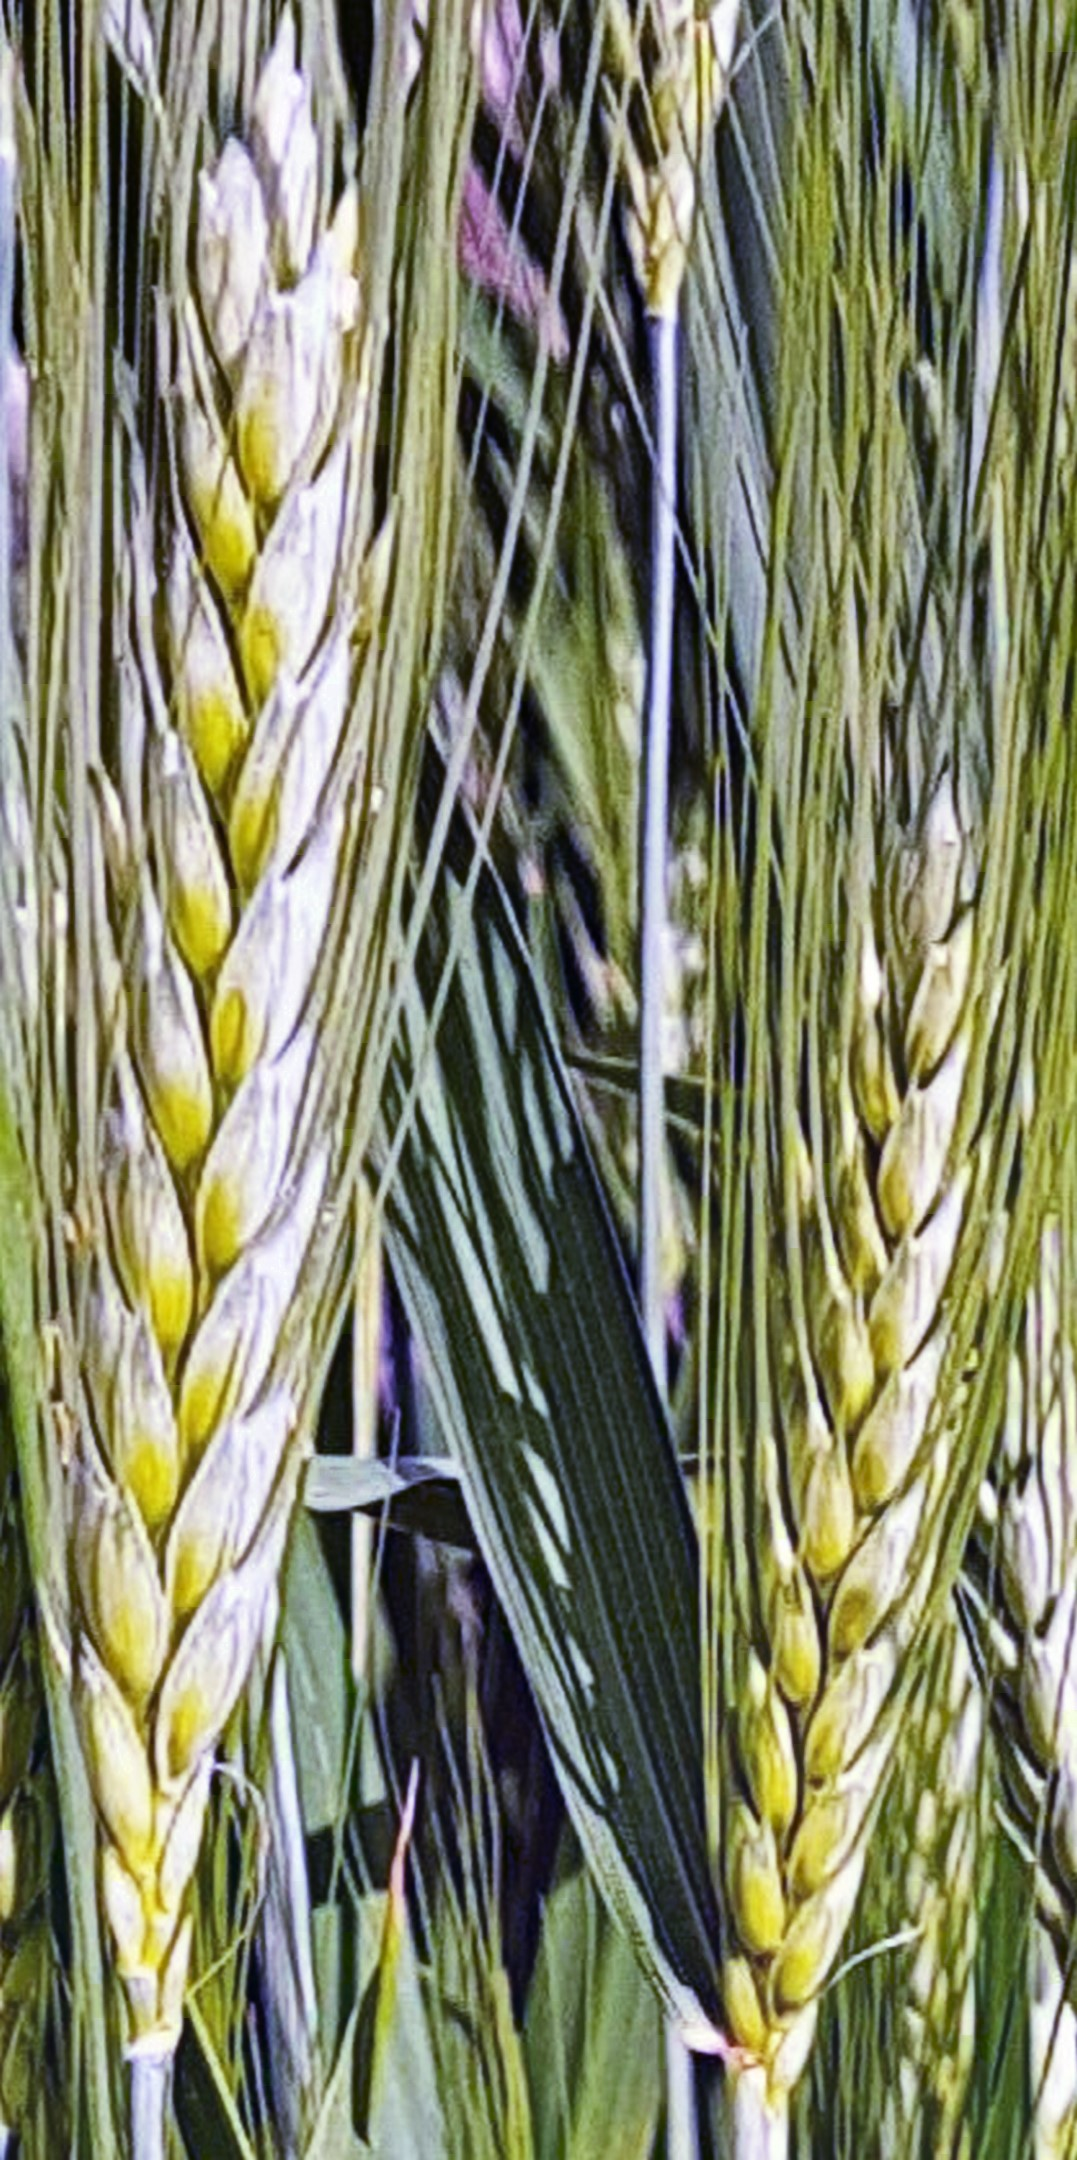Healthy Wheat: (62, 1, 410, 1982), (672, 875, 1077, 2013)
